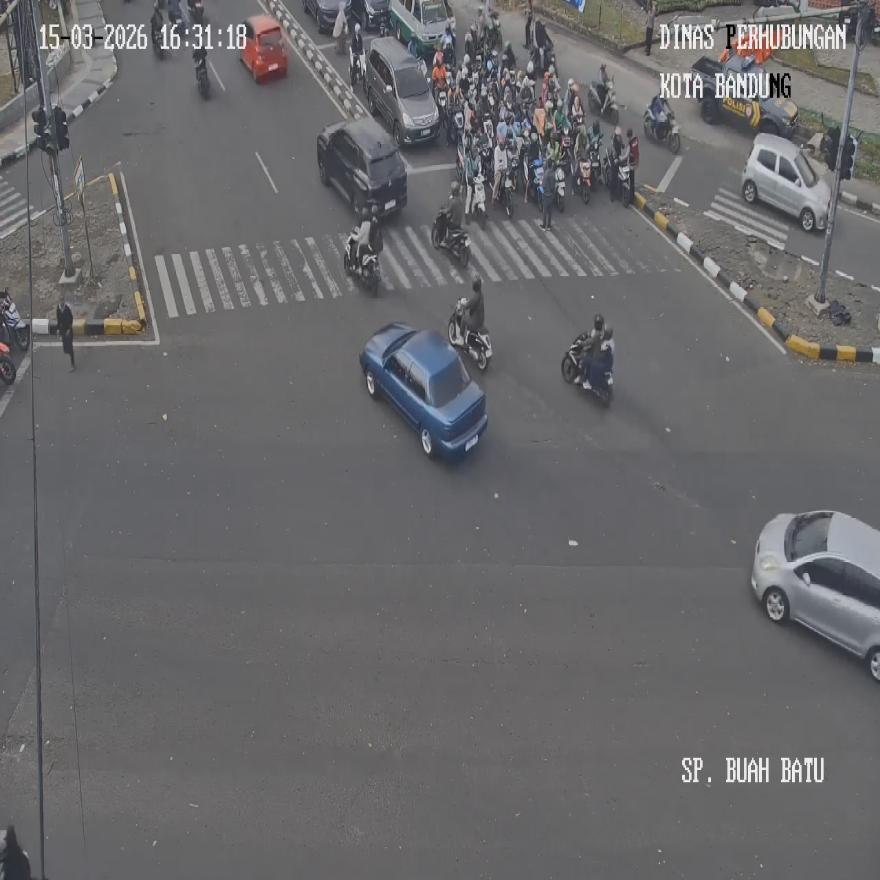Motor: (749, 511, 880, 682), (360, 322, 486, 458), (689, 52, 799, 140), (317, 116, 407, 221), (741, 133, 831, 232), (364, 38, 440, 145)
Truk: (562, 331, 613, 405), (448, 298, 492, 369), (345, 226, 380, 292), (432, 208, 470, 266), (643, 100, 680, 152), (0, 293, 30, 352), (607, 150, 634, 207), (56, 297, 74, 370), (586, 79, 616, 120), (493, 159, 513, 216), (442, 94, 462, 147), (468, 177, 488, 229), (530, 40, 556, 80), (194, 49, 210, 99), (526, 156, 542, 206), (575, 155, 591, 204), (618, 160, 634, 208), (151, 11, 166, 57), (0, 341, 15, 384), (596, 150, 612, 190), (554, 162, 565, 212), (351, 50, 363, 89), (189, 0, 206, 27)
